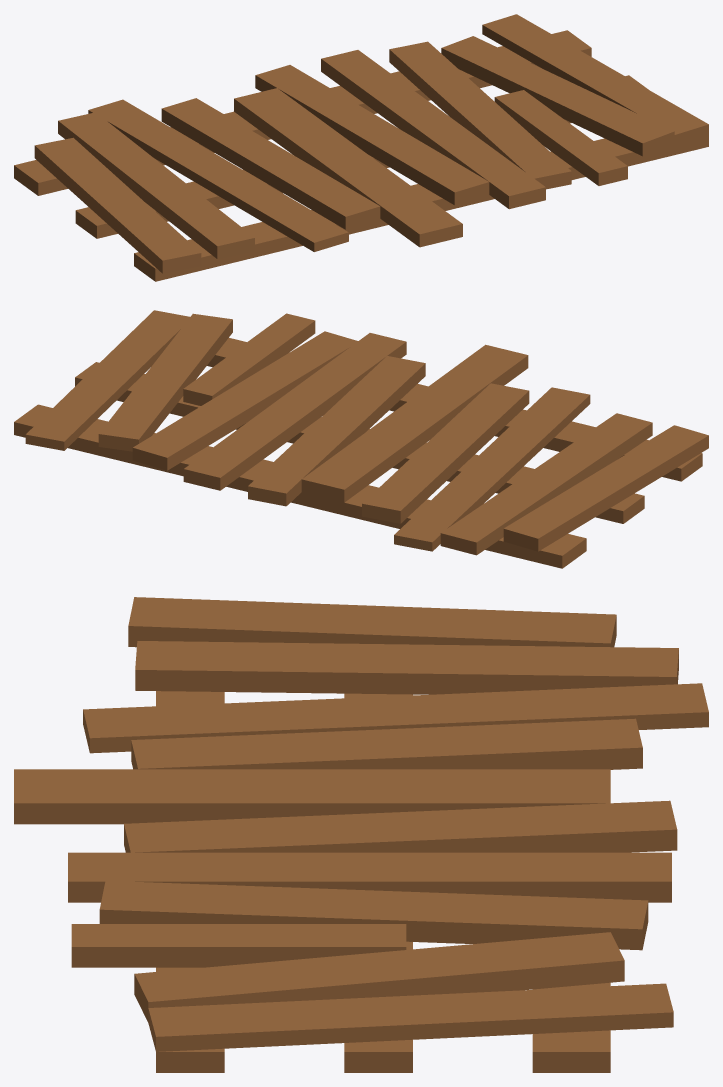
File: rough_bridge.fbx
3 renders of one model, top to bottom at view 1: azimuth 30°, elevation 25°; view 2: azimuth 150°, elevation 25°; view 3: azimuth 270°, elevation 25°, orthographic. The views are drawn at different scales.
Visible parts, largest first — view 1: Group1; view 2: Group1; view 3: Group1.
Boxes of the visible parts, bbox=[...] form: Group1: bbox=[14, 14, 708, 281]; Group1: bbox=[14, 310, 708, 568]; Group1: bbox=[14, 597, 708, 1072].
Bounding box in the file's own units: 2.26 × 0.1016 × 1.53.
